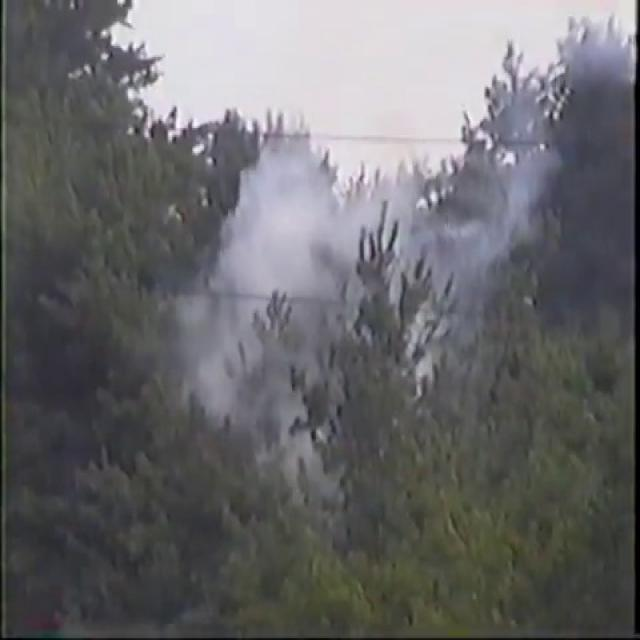Smoke: (174, 82, 376, 474), (363, 136, 558, 386)
